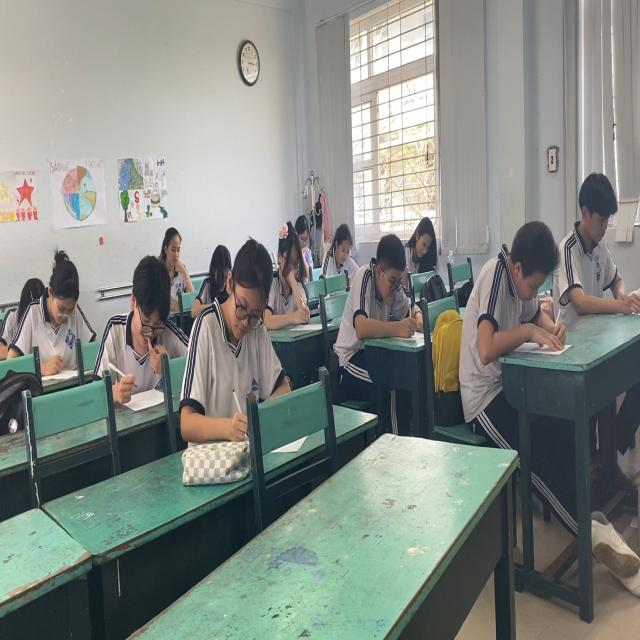not_cheating: (204, 234, 274, 414), (469, 217, 560, 345), (557, 158, 626, 313), (20, 251, 94, 368), (119, 262, 169, 362), (356, 227, 403, 331), (266, 217, 302, 320), (160, 200, 189, 290), (321, 213, 360, 276), (403, 202, 438, 268), (200, 241, 226, 296)
